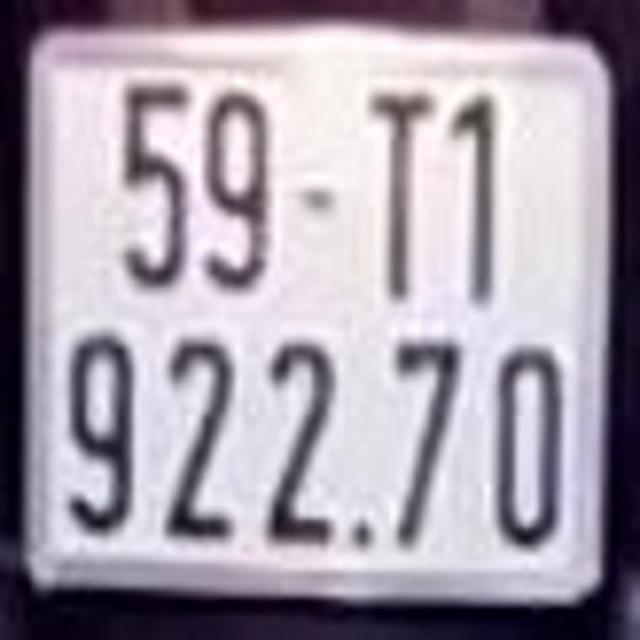0: (494, 342, 564, 548)
1: (451, 91, 504, 303)
2: (164, 338, 241, 544), (264, 333, 338, 544)
5: (122, 79, 191, 280)
7: (392, 336, 465, 553)
9: (205, 83, 278, 287), (68, 333, 135, 536)
T: (361, 88, 443, 306)
